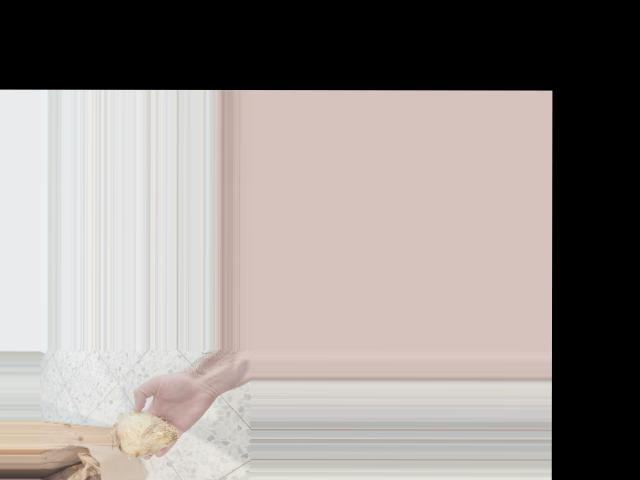onion: (112, 407, 180, 458)
